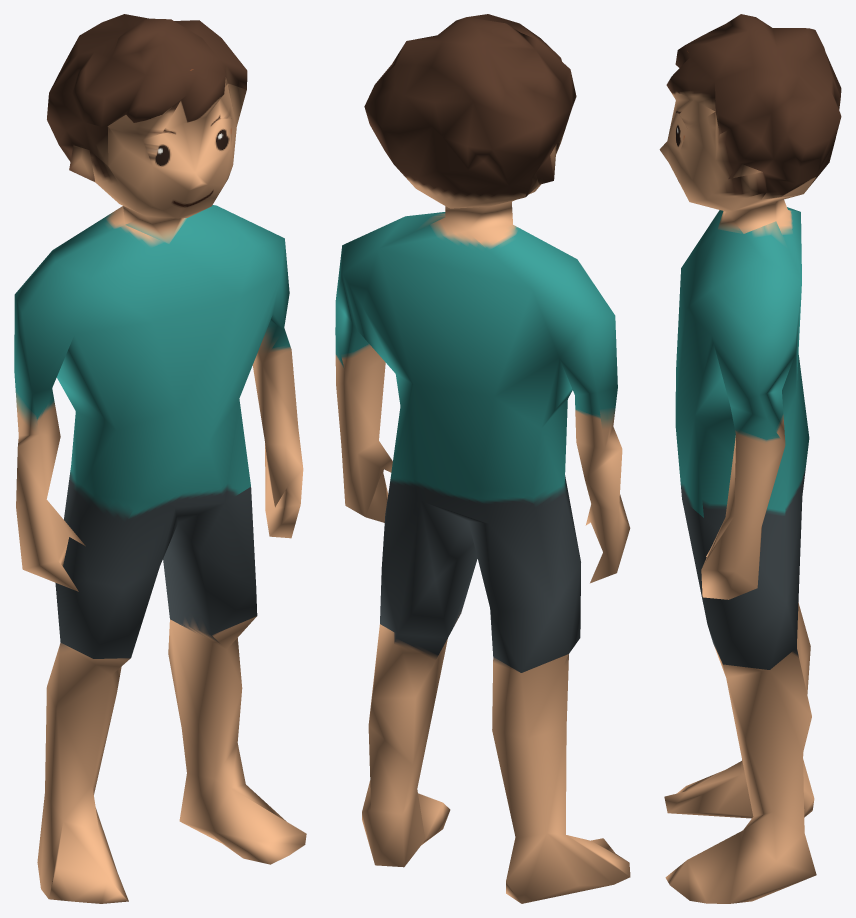
Rendered from npc_staff_lod_far.glb.
The picture shows the model from 3 angles, left to right: view 1: azimuth 30°, elevation 25°; view 2: azimuth 150°, elevation 25°; view 3: azimuth 270°, elevation 25°; orthographic projection. The views are drawn at different scales.
Parts seen in each view (by area): view 1: npc_staff_lod_far; view 2: npc_staff_lod_far; view 3: npc_staff_lod_far.
Part boxes in pixels (x1,y1,x2,y2): npc_staff_lod_far: (14,14,306,903); npc_staff_lod_far: (335,14,630,903); npc_staff_lod_far: (659,14,841,903).
Bounding box in the file's own units: 0.5547 × 1.6 × 0.3185.
1 material, 1 textured.
